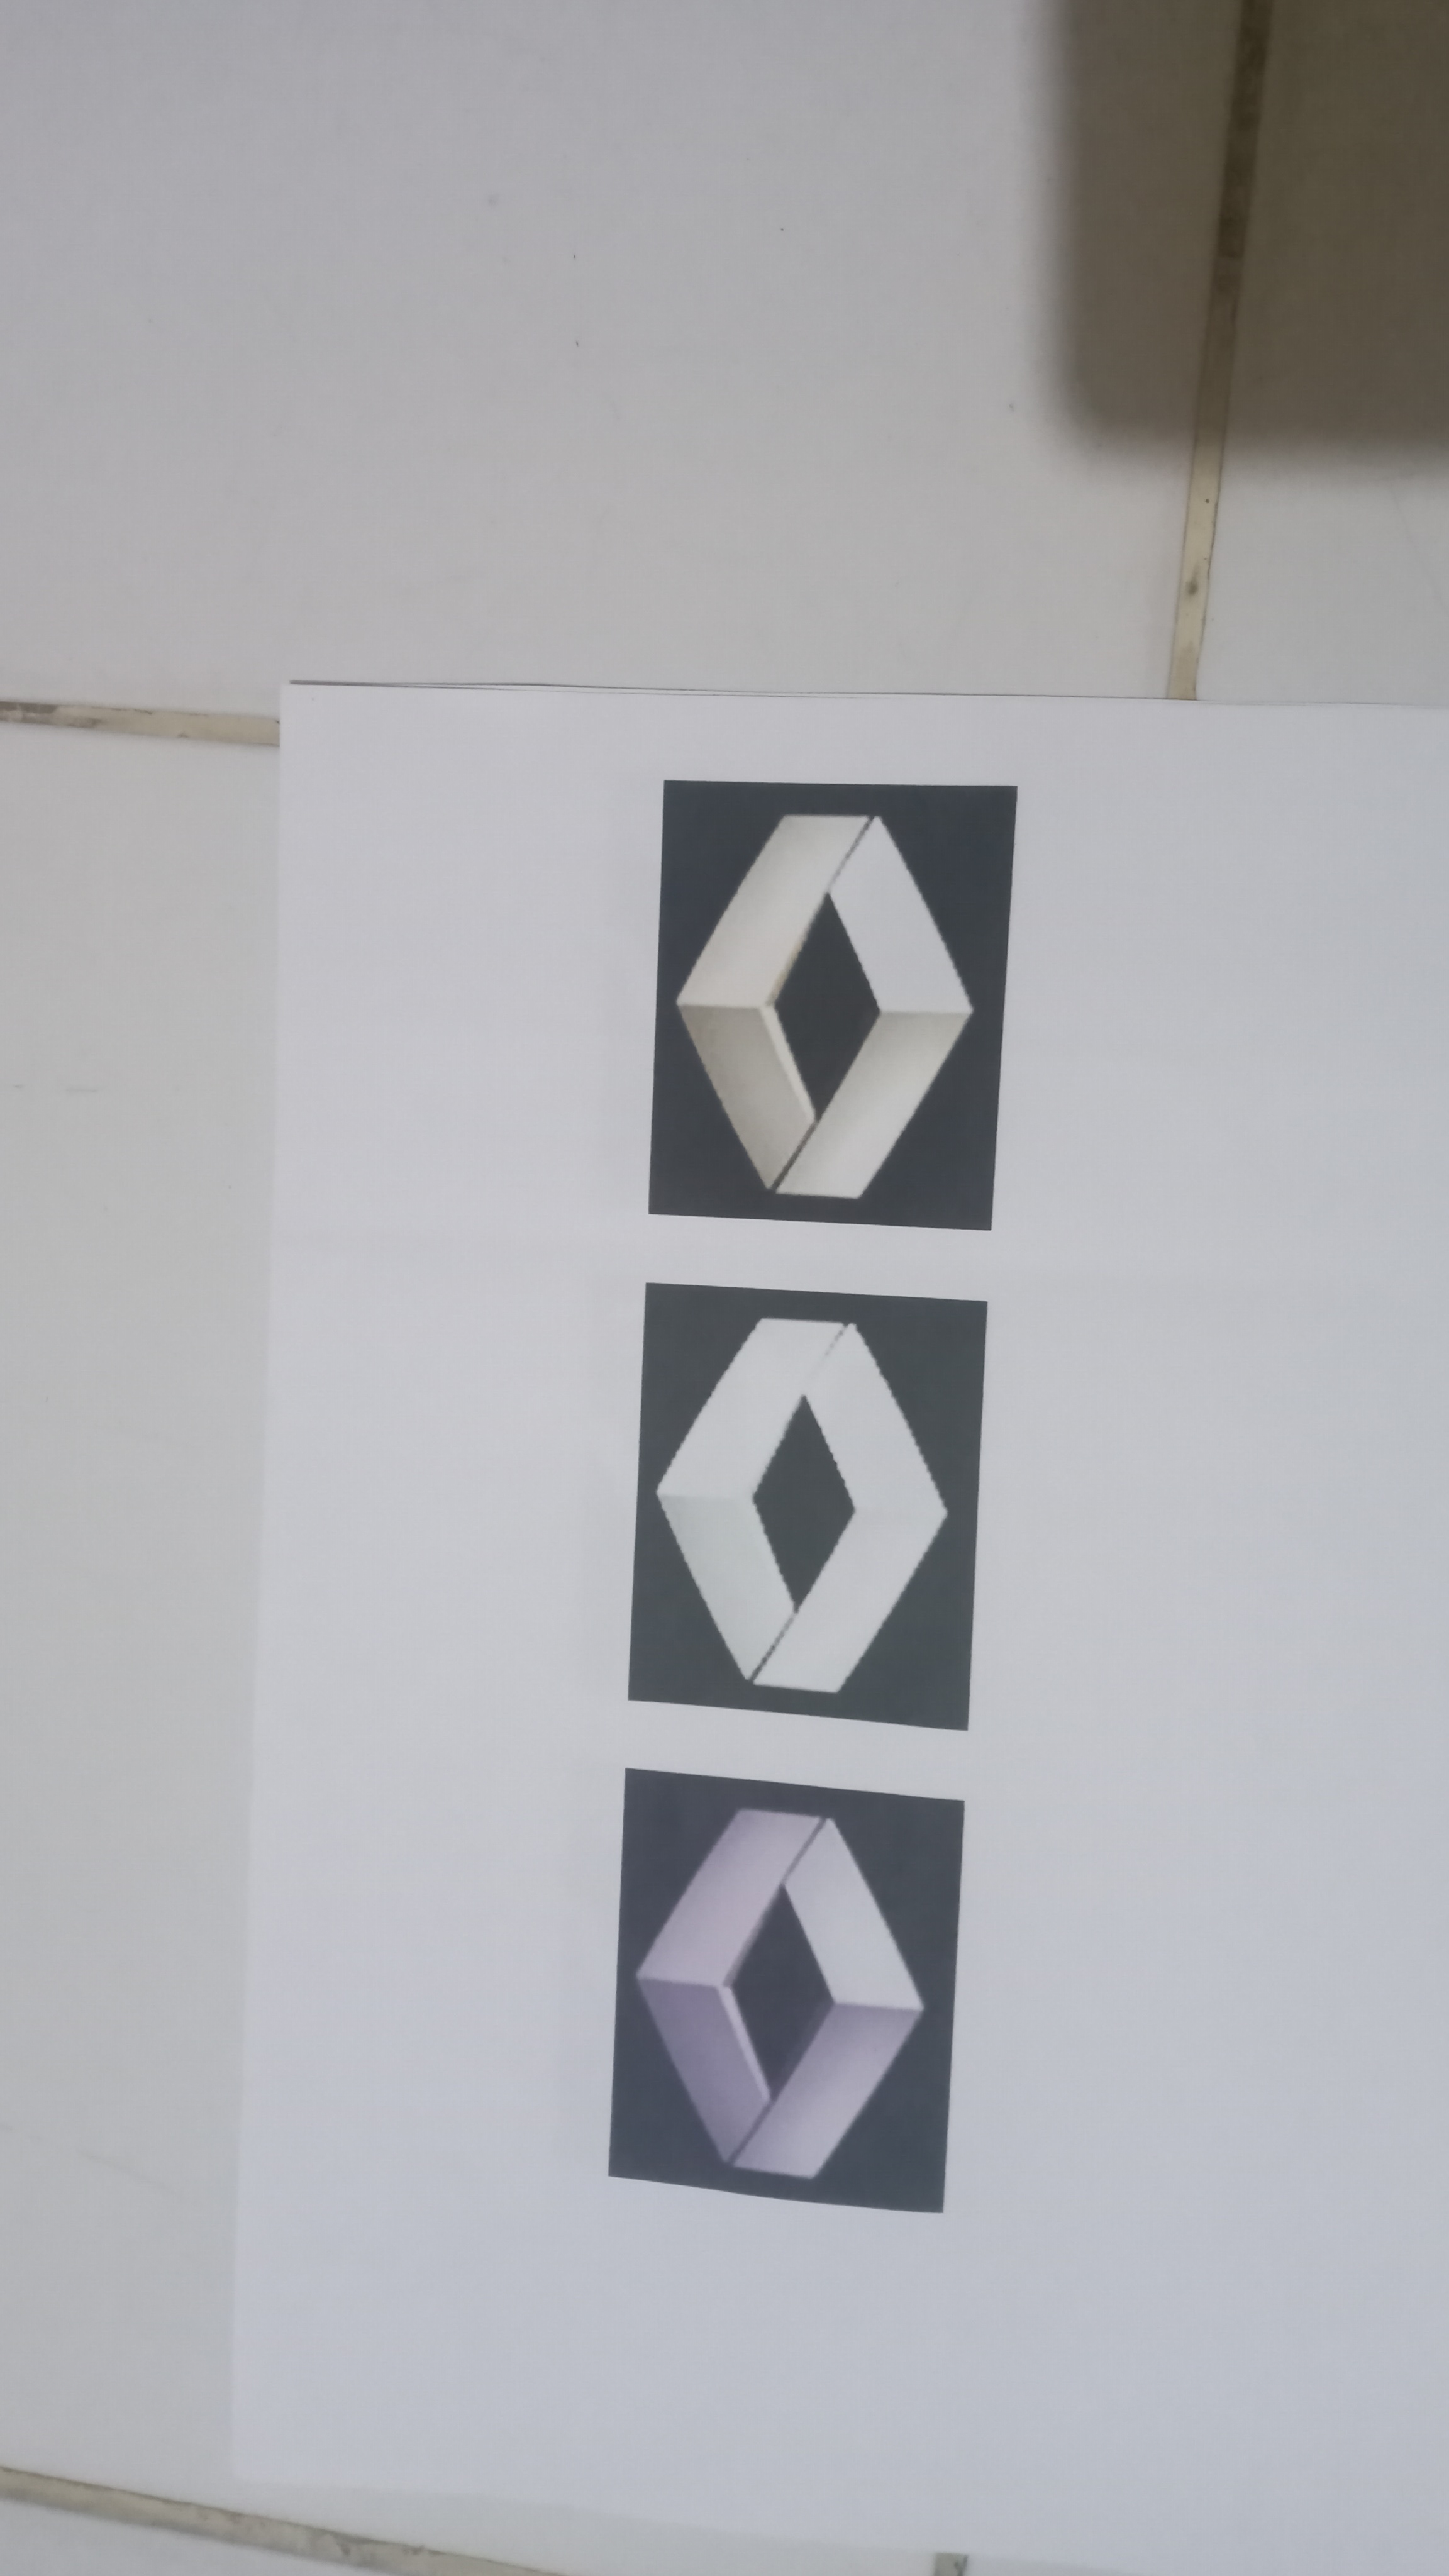Renault: (644, 1295, 971, 1716), (671, 798, 987, 1214), (630, 1796, 931, 2190)
